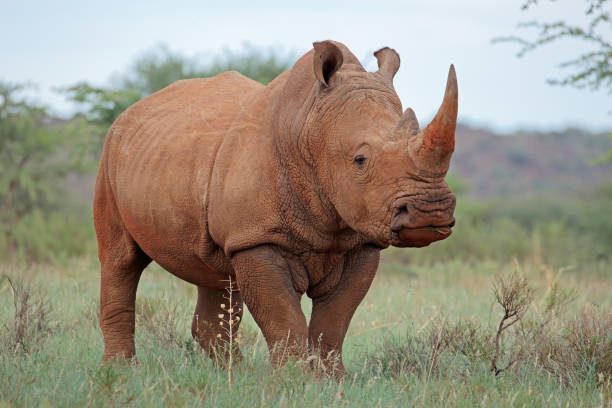rhino: (275, 25, 480, 269)
